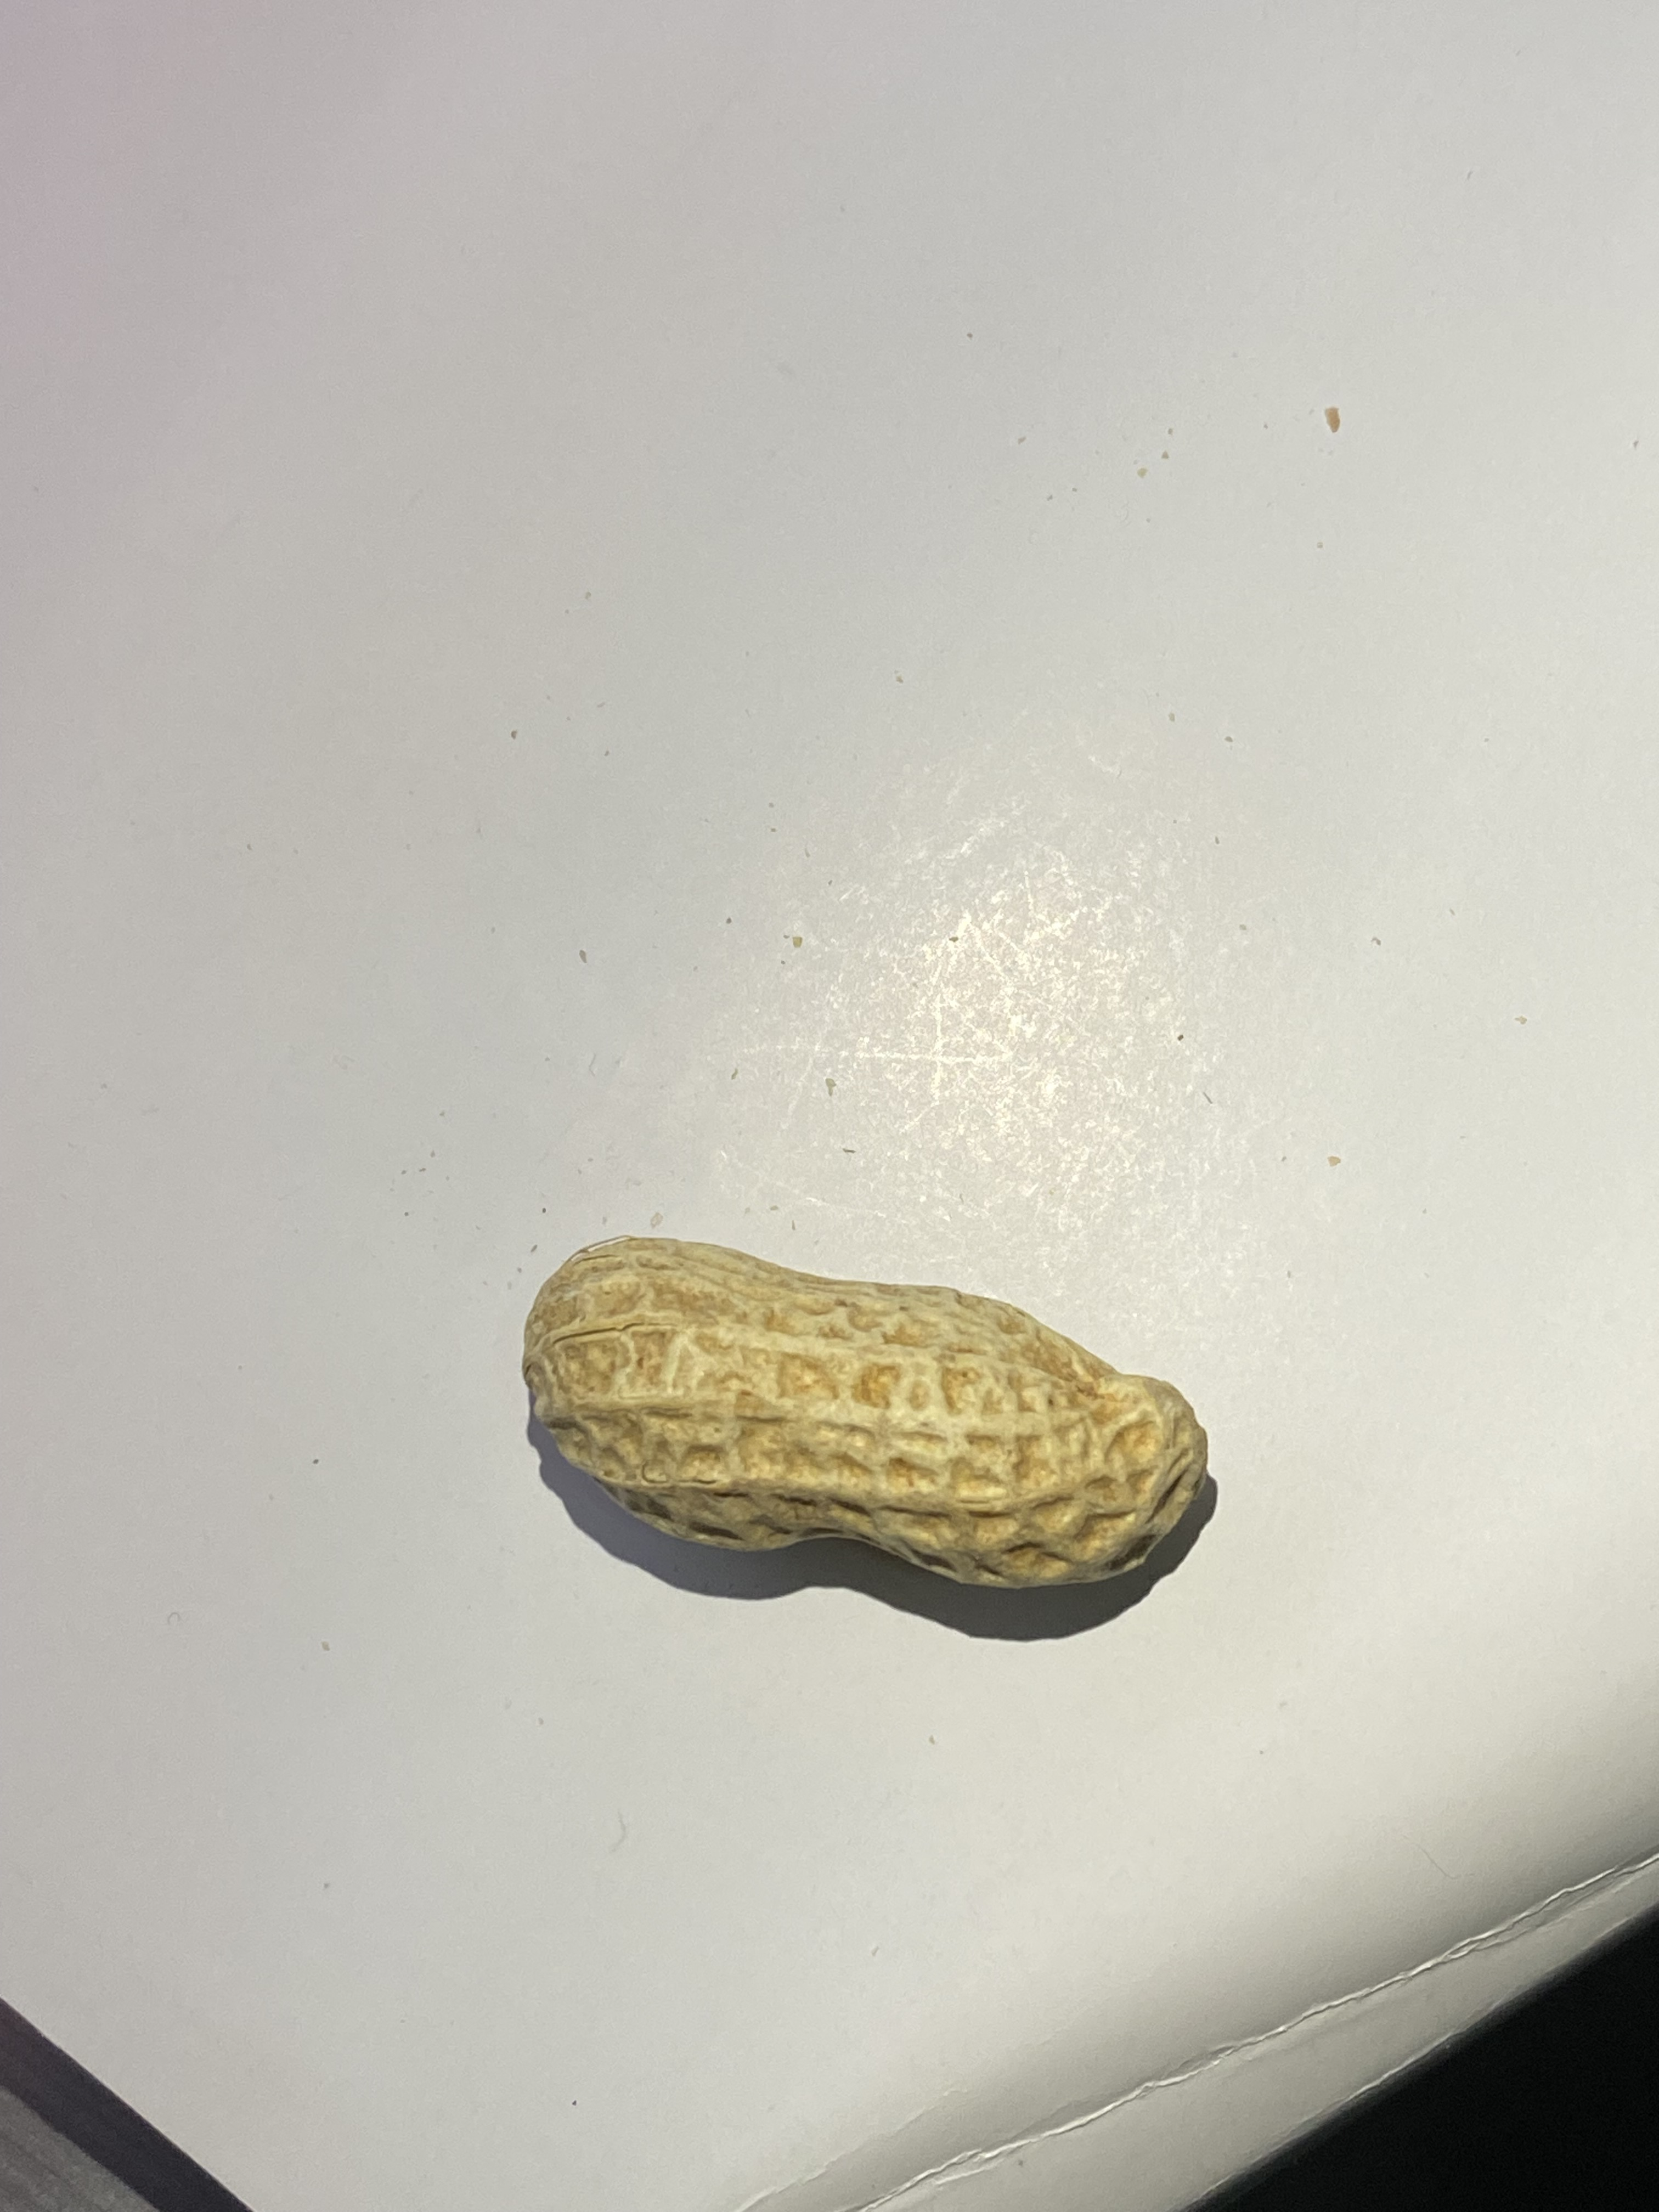kacang2: (481, 1195, 1236, 1648)
